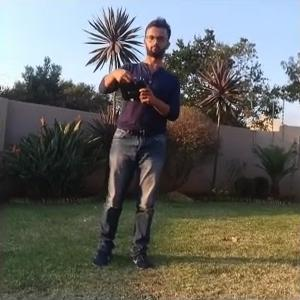follow: (86, 7, 185, 276)
